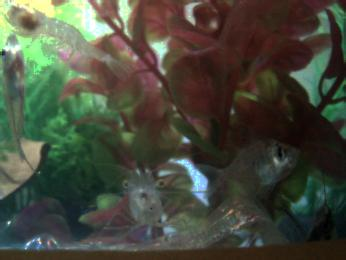X-ray fish: (198, 139, 296, 197), (1, 33, 36, 176)
siberian prawn: (8, 6, 131, 75), (111, 164, 177, 233)
